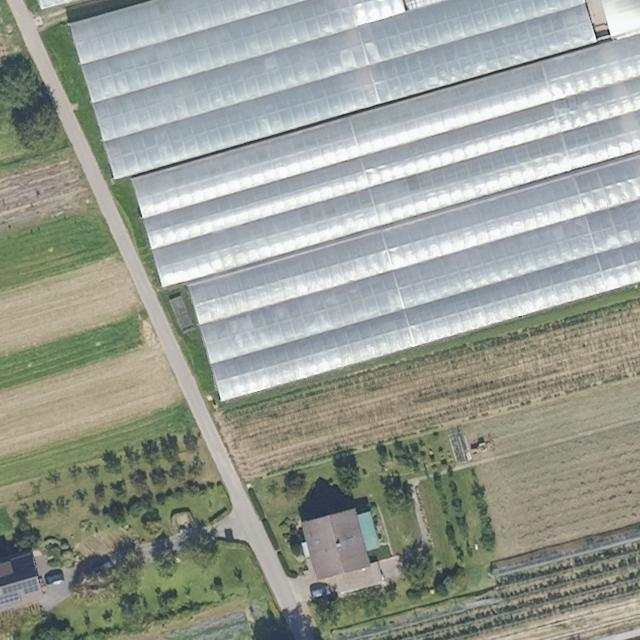PV: (0, 577, 40, 606)
